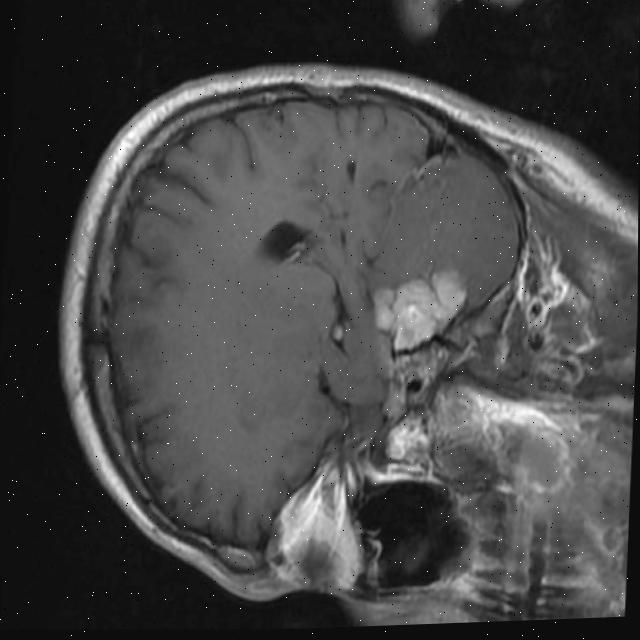Meningioma: (365, 262, 470, 355)
